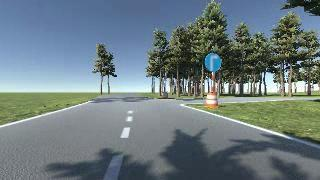turn_right: (204, 52, 222, 72)
